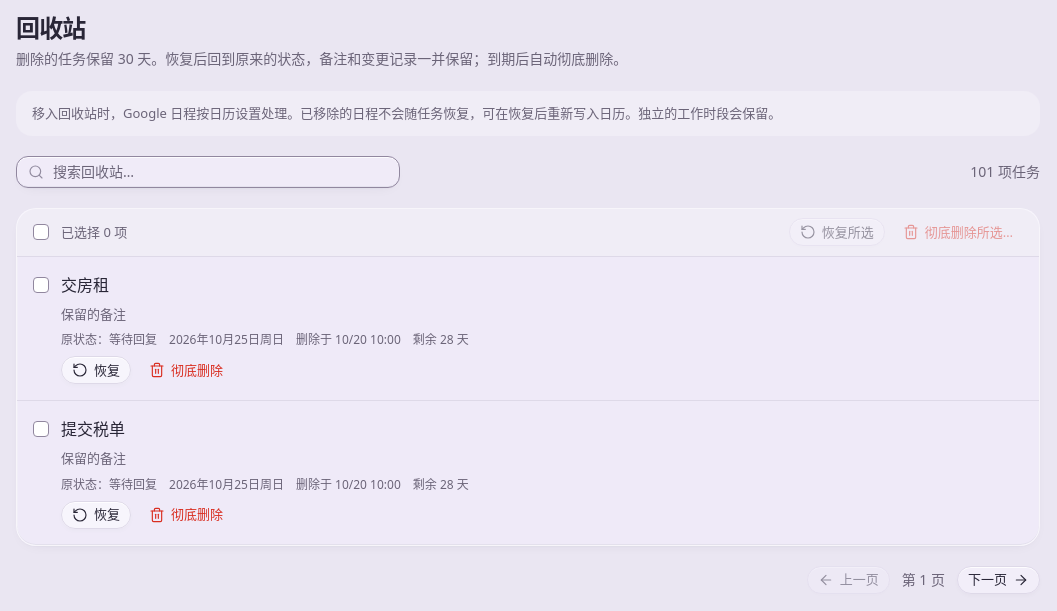
it: Task recycle bin › paginates large bins without selecting tasks on another page
The width and height of the screenshot is (1057, 611).
Click the checkbox named "选择本页所有任务" at (41, 232), box 33,224 -> 49,240
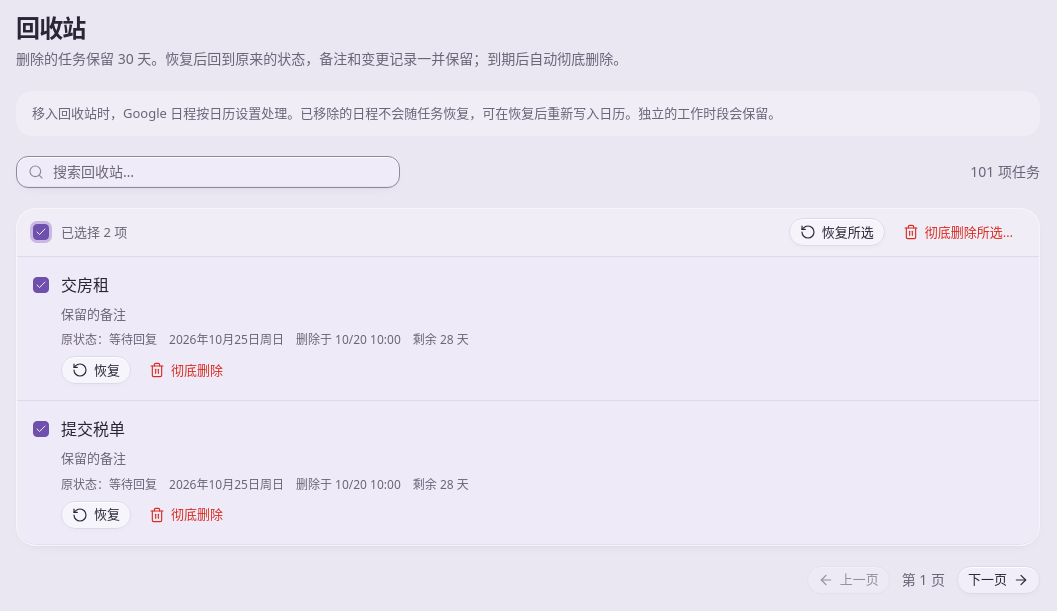
Click the button "下一页" at (998, 580), box 957,566 -> 1040,594
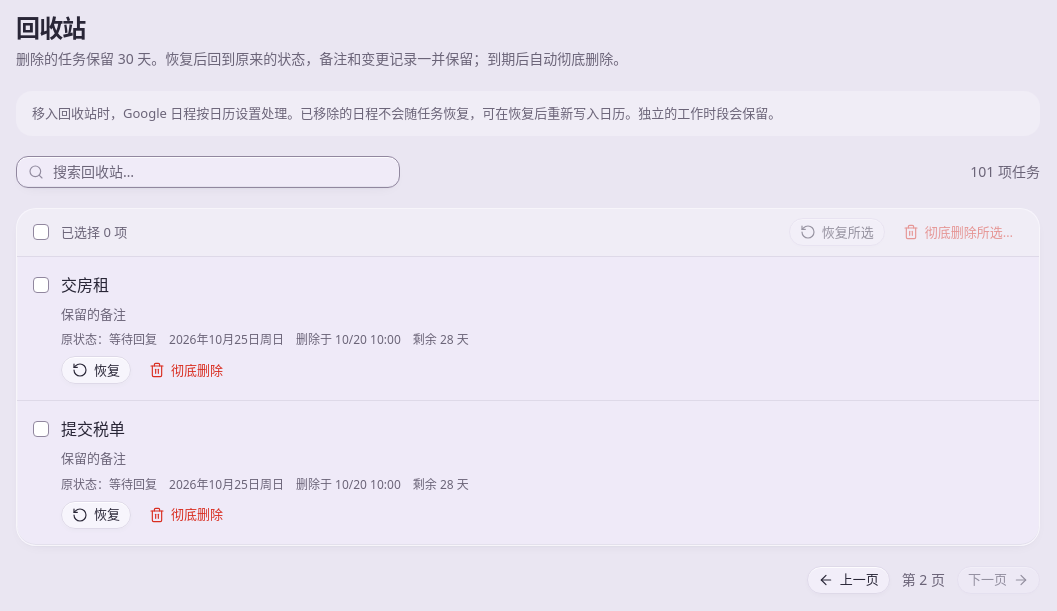
Expected: the button "恢复所选" is disabled, 789,218 -> 885,246
Expected: the text "第 2 页" is shown, 902,570 -> 945,590
